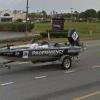Boat: (2, 35, 88, 76)
